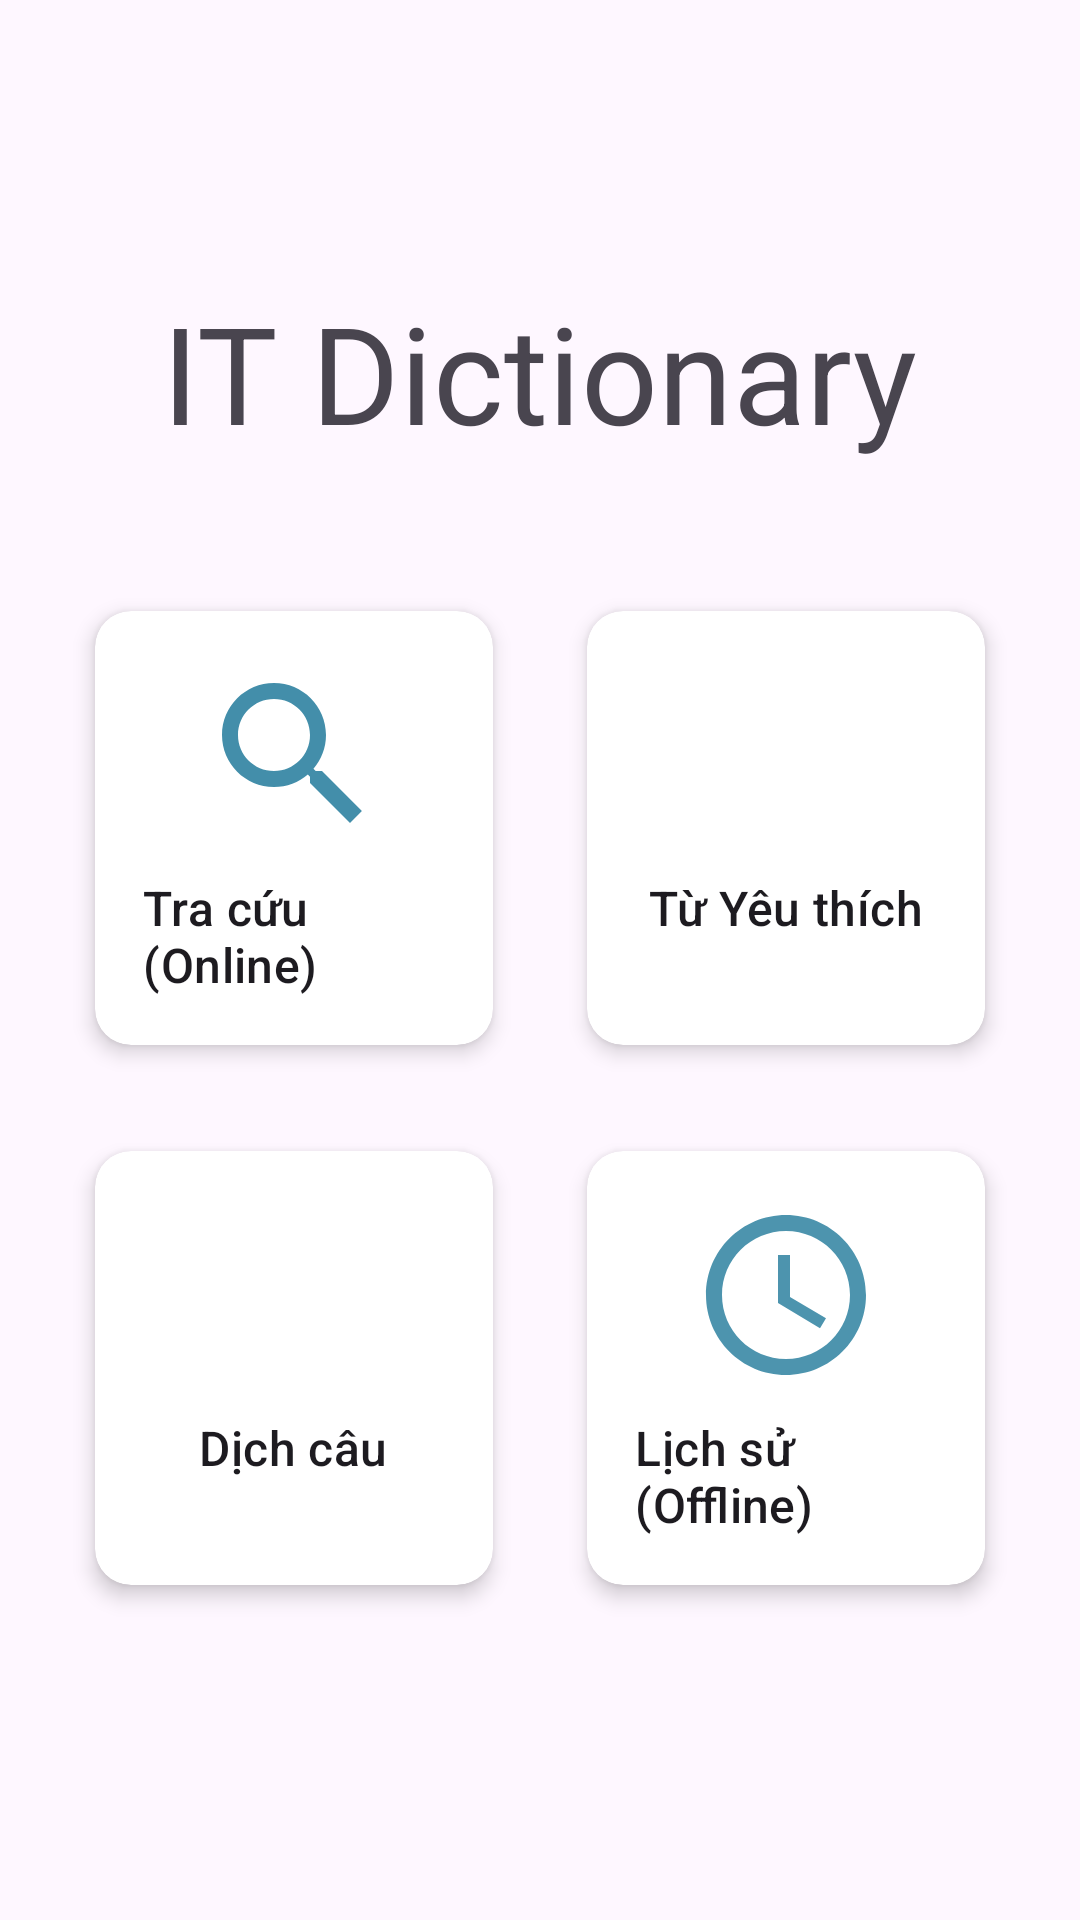

Screen size 1080 x 1920. Icon name, then its center in pixels as [x,y]:
history: [786,1295]
search: [292,753]
